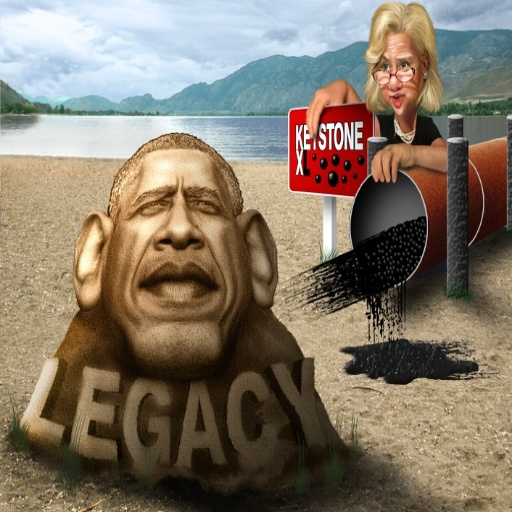hand: (377, 129, 444, 186), (307, 78, 348, 137)
